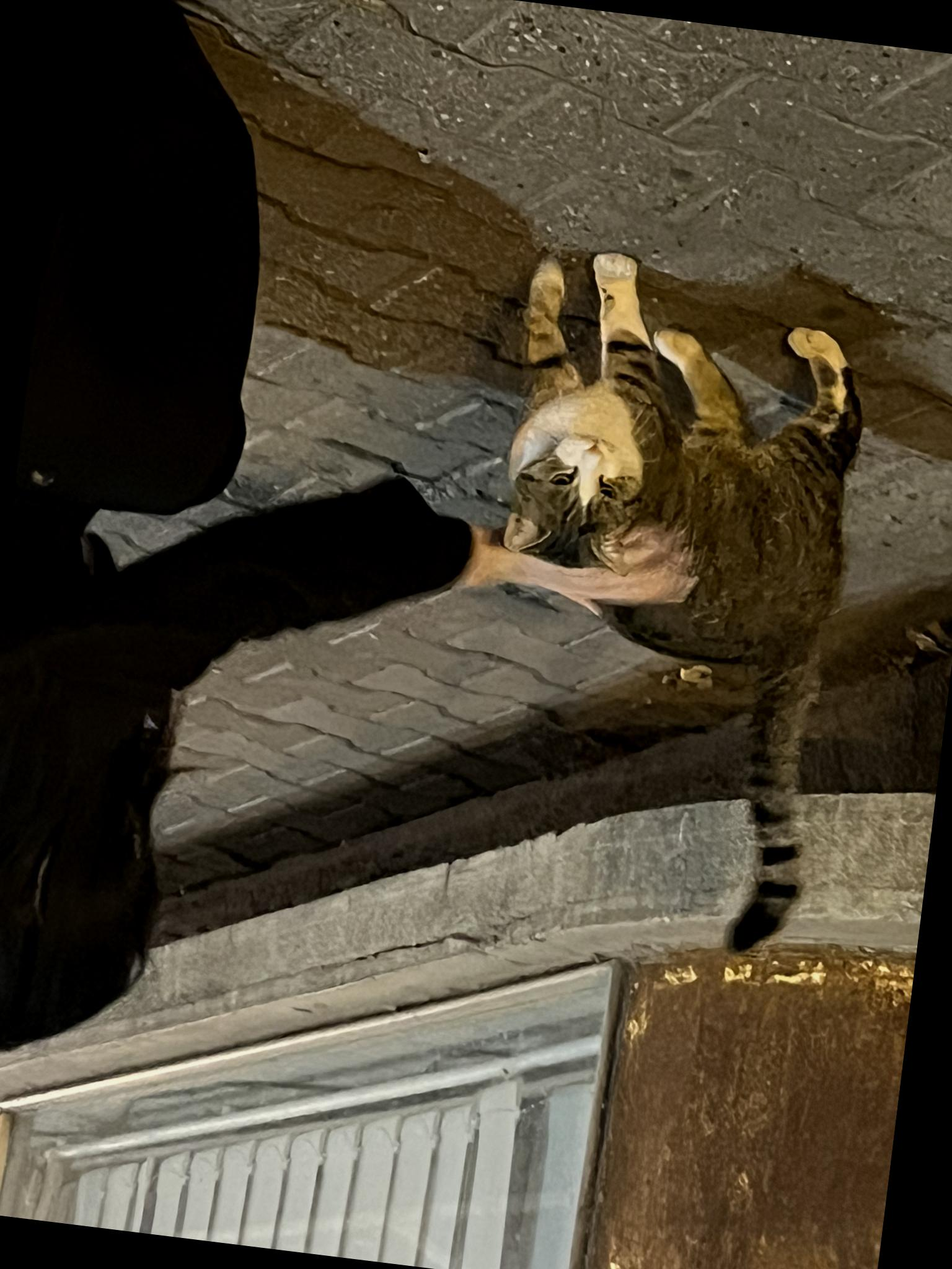macka: (449, 241, 879, 959)
